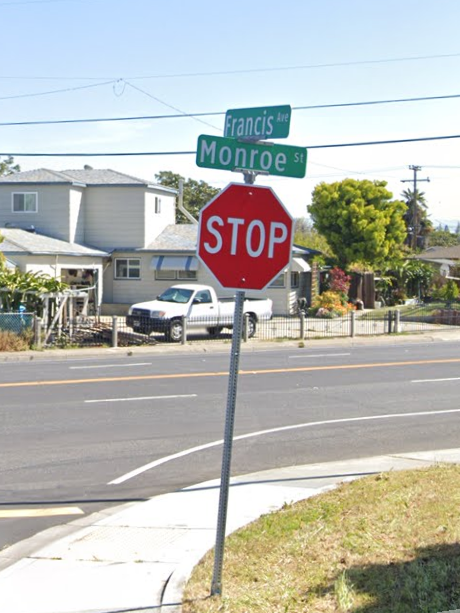stop_sign: (196, 185, 297, 291)
